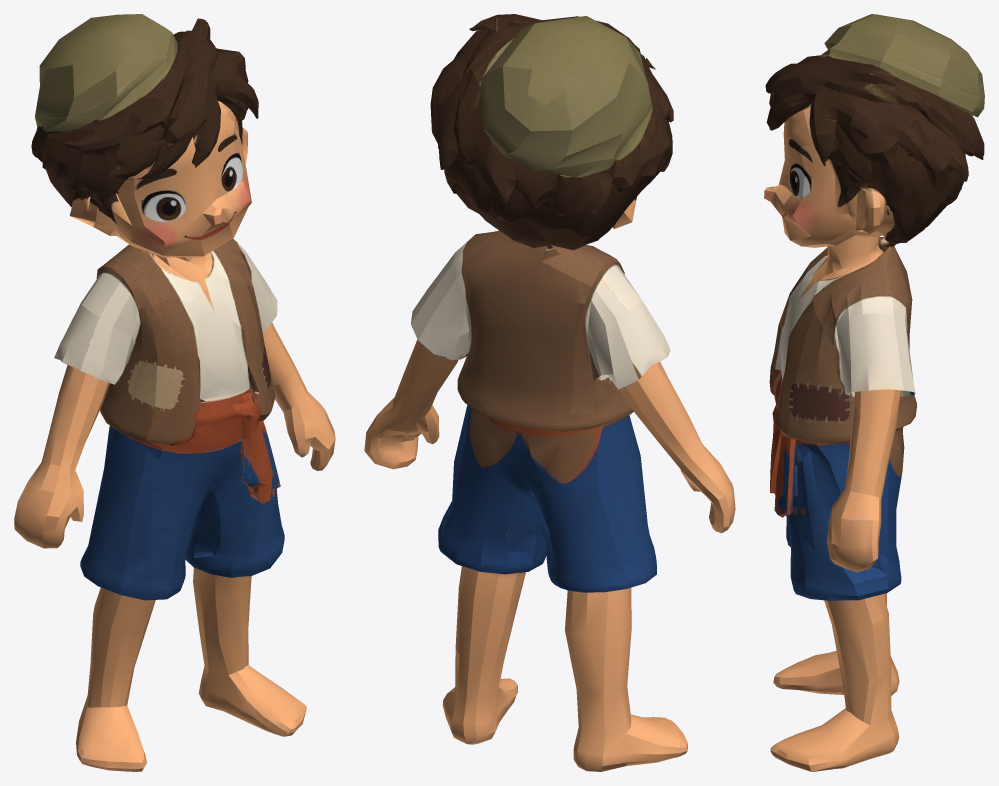
File: koylu-cocuk.glb
The picture shows the model from 3 angles, left to right: view 1: azimuth 30°, elevation 25°; view 2: azimuth 150°, elevation 25°; view 3: azimuth 270°, elevation 25°; orthographic projection. The views are drawn at different scales.
Visible parts, largest first — view 1: Mesh0; view 2: Mesh0; view 3: Mesh0.
Part boxes in pixels (x1,y1,x2,y2): Mesh0: [14, 14, 335, 771]; Mesh0: [364, 14, 735, 771]; Mesh0: [764, 14, 984, 771].
Size of the model in its own units: 0.9298 by 1.89 by 0.5522.
Materials: 1 (1 with a texture image).
